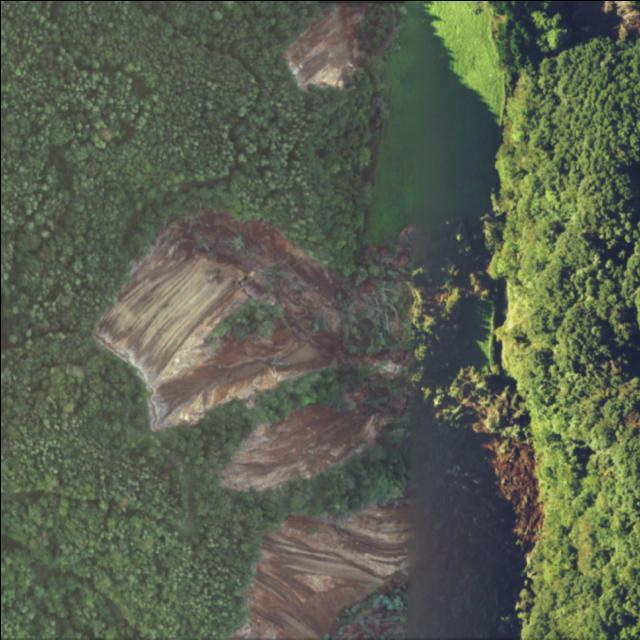landslide: (95, 210, 354, 429), (231, 500, 409, 640), (218, 404, 387, 490), (284, 2, 364, 89)
